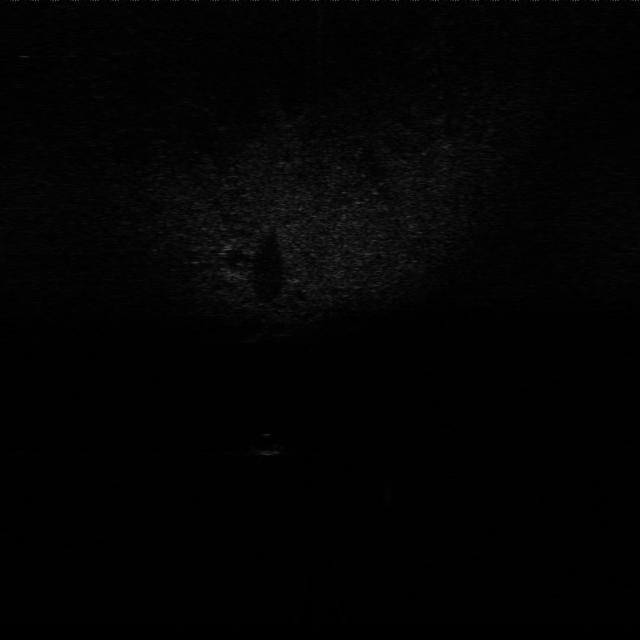ball: (251, 429, 287, 459)
